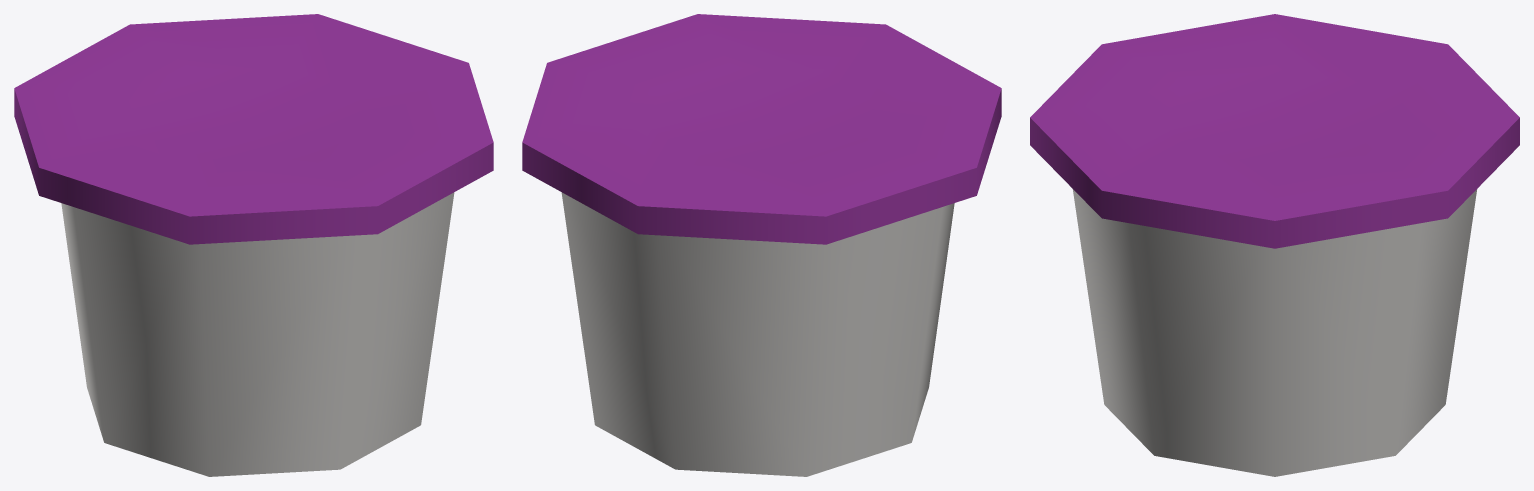
Rendered from Produce_Yogurt.glb.
3 views of the same model, side by side, from view 1: azimuth 30°, elevation 25°; view 2: azimuth 150°, elevation 25°; view 3: azimuth 270°, elevation 25° (orthographic).
Visible parts, largest first — view 1: Cylinder003; view 2: Cylinder003; view 3: Cylinder003.
Part boxes in pixels (box(x1,y1,x2,y2)): Cylinder003: box(14, 14, 493, 476); Cylinder003: box(522, 14, 1001, 476); Cylinder003: box(1030, 14, 1519, 476).
Bounding box in the file's own units: 0.2583 × 0.1672 × 0.2583.
